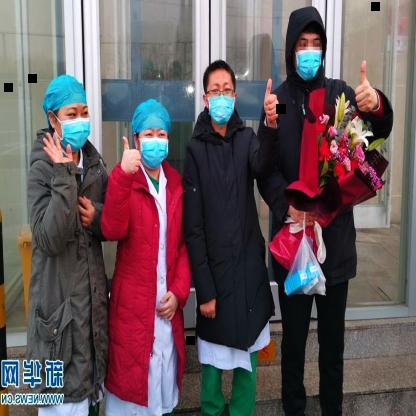mask: (43, 73, 92, 157), (288, 5, 330, 82), (129, 100, 174, 171), (200, 59, 238, 128)
